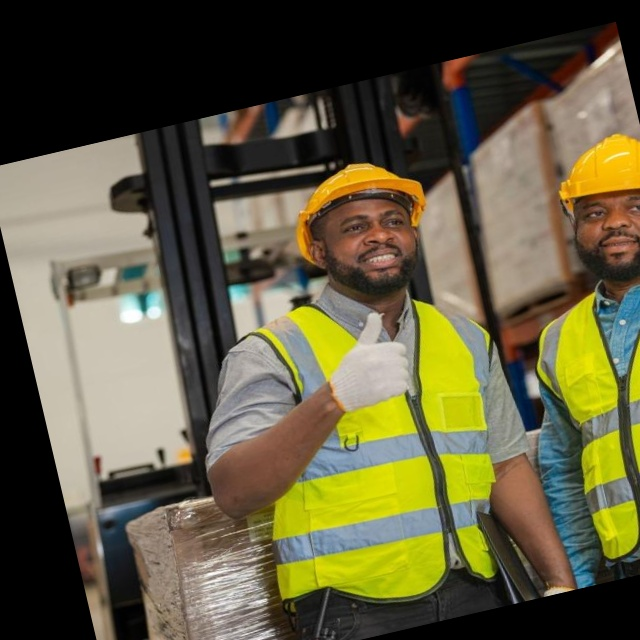Con_Casco: (283, 147, 444, 307)
Con_Chaleco: (232, 274, 541, 626), (519, 273, 640, 588)
